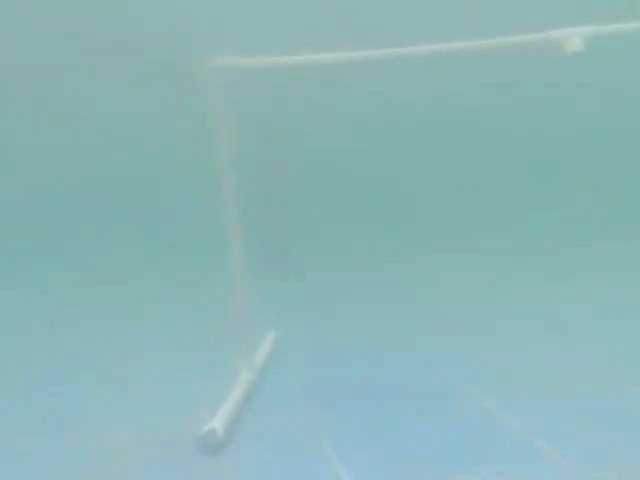gate: (158, 12, 640, 480)
